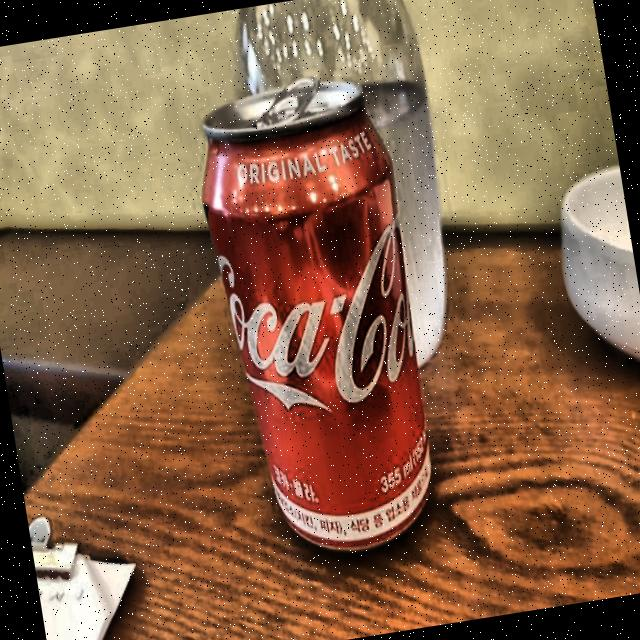cocacola: (192, 97, 442, 561)
